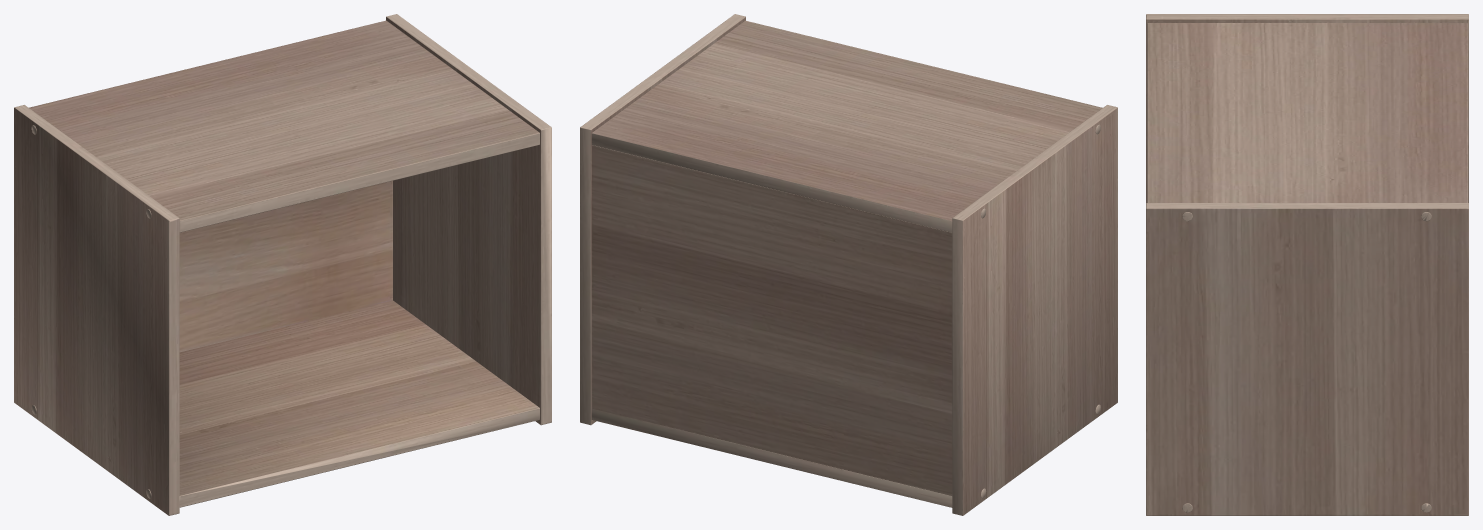
Rendered from B07TZ9BGPC.glb.
3 views of the same model, side by side, from view 1: azimuth 30°, elevation 25°; view 2: azimuth 150°, elevation 25°; view 3: azimuth 270°, elevation 25° (orthographic). The views are drawn at different scales.
Parts seen in each view (by area): view 1: B07TZ9BGPC; view 2: B07TZ9BGPC; view 3: B07TZ9BGPC.
Part boxes in pixels (x1=…): B07TZ9BGPC: x1=14, y1=14, x2=551, y2=515; B07TZ9BGPC: x1=580, y1=14, x2=1117, y2=515; B07TZ9BGPC: x1=1146, y1=14, x2=1468, y2=515.
Size of the model in its own units: 0.415 by 0.305 by 0.29.
1 material, 1 textured.
